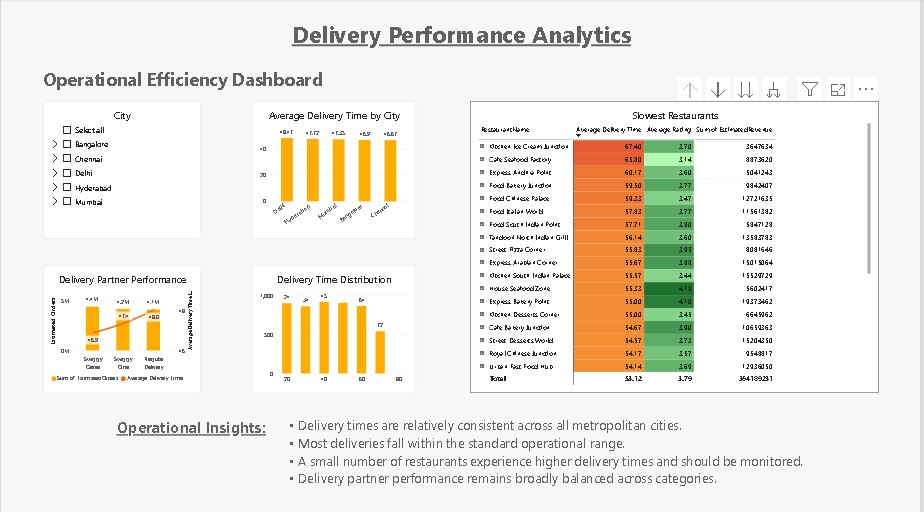

The page's visual inventory and layout, read from the dashboard file:
{"tool":"powerbi","page":{"name":"Delivery Performance Analytics","canvas":[1920,1080],"ordinal":2},"visuals":[{"type":"textbox","box":[87.2,42.5,1747.6,172.2],"z":0},{"type":"clusteredColumnChart","title":"Average Delivery Time by City","fields":{"Category":["Restaurants_Clean.City"],"Y":["Restaurants_Clean.Average Delivery Time"]},"box":[524.2,215.7,342.5,287.5],"z":1000},{"type":"lineClusteredColumnComboChart","title":"Delivery Partner Performance","fields":{"Category":["Restaurants_Clean.DeliveryPartner"],"Y":["Sum(Restaurants_Clean.EstimatedOrders)"],"Y2":["Restaurants_Clean.Average Delivery Time"]},"box":[86.7,558.2,330,267.5],"z":2000},{"type":"columnChart","title":"Delivery Time Distribution","fields":{"Category":["Restaurants_Clean.DeliveryTimeMinutes (bins)"],"Y":["CountNonNull(Restaurants_Clean.RestaurantName)"]},"box":[524.2,558.2,342.5,267.5],"z":3000},{"type":"pivotTable","title":"Slowest Restaurants","fields":{"Rows":["Restaurants_Clean.RestaurantName","Restaurants_Clean.City"],"Values":["Restaurants_Clean.Average Delivery Time","Restaurants_Clean.Average Rating","Sum(Restaurants_Clean.EstimatedRevenue)"]},"box":[979.2,215.7,855,610],"z":4000},{"type":"listSlicer","fields":{"Values":["Restaurants_Clean.City","Restaurants_Clean.DeliveryPartner","Restaurants_Clean.CuisineTypes"]},"box":[86.7,215.7,330,287.5],"z":5000},{"type":"textbox","box":[224.2,873.2,330,157.5],"z":6000},{"type":"textbox","box":[581.7,873.2,1115,157.5],"z":7000}]}

Visuals, with their boxes in screenshot pixels (x1, y1, x2, y2), scaled from the page's 1920x1080 canvas onto the 924x512 screenshot:
textbox: bbox(42, 20, 883, 102)
"Average Delivery Time by City" clusteredColumnChart: bbox(252, 102, 417, 239)
"Delivery Partner Performance" lineClusteredColumnComboChart: bbox(42, 265, 201, 391)
"Delivery Time Distribution" columnChart: bbox(252, 265, 417, 391)
"Slowest Restaurants" pivotTable: bbox(471, 102, 883, 391)
listSlicer - Restaurants_Clean.City x Restaurants_Clean.DeliveryPartner: bbox(42, 102, 201, 239)
textbox: bbox(108, 414, 267, 489)
textbox: bbox(280, 414, 817, 489)
